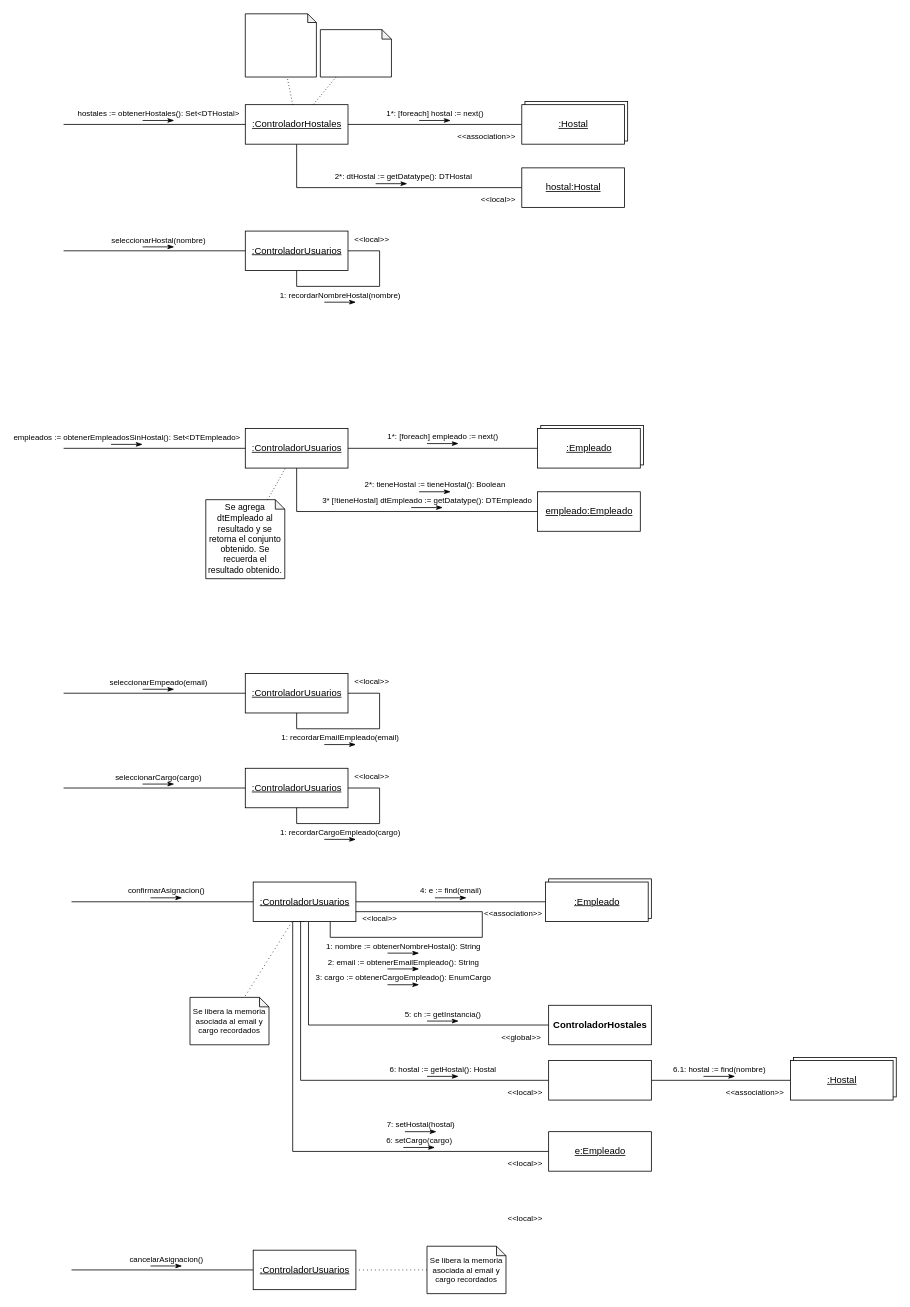
The diagram is 910 pixels wide and 1307 high, and some of its shapes have lost their labels. Here are the shapes that lost their labels. From the top down, the centre of each, then its label:
[280,45]: Se agrega dtHostal al resultado y se retorna el conjunto obtenido
[355,53]: Se recuerdan las instancias de DTHostal obtenidas
[599,1080]: ch:ControladorHostales
